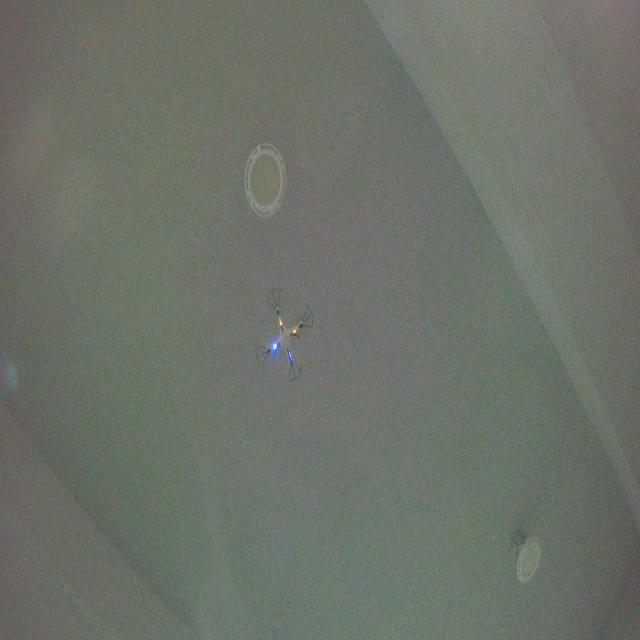drone: (253, 284, 316, 385)
